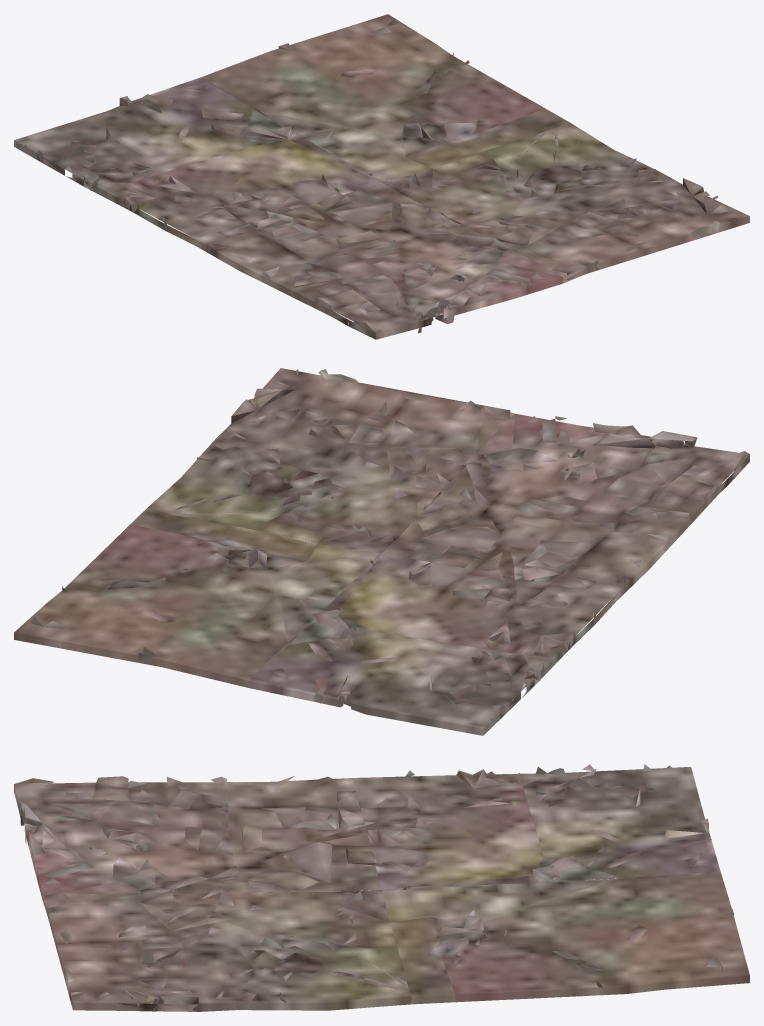
3 views of the same model, one above another, from view 1: azimuth 30°, elevation 25°; view 2: azimuth 150°, elevation 25°; view 3: azimuth 270°, elevation 25° (orthographic). The views are drawn at different scales.
Parts seen in each view (by area): view 1: Mesh_0; view 2: Mesh_0; view 3: Mesh_0.
Part boxes in pixels (x1=…): Mesh_0: x1=14, y1=14, x2=749, y2=339; Mesh_0: x1=14, y1=368, x2=749, y2=735; Mesh_0: x1=14, y1=764, x2=749, y2=1011.
Size of the model in its own units: 2131 by 150 by 2636.
Materials: 1 (1 with a texture image).
